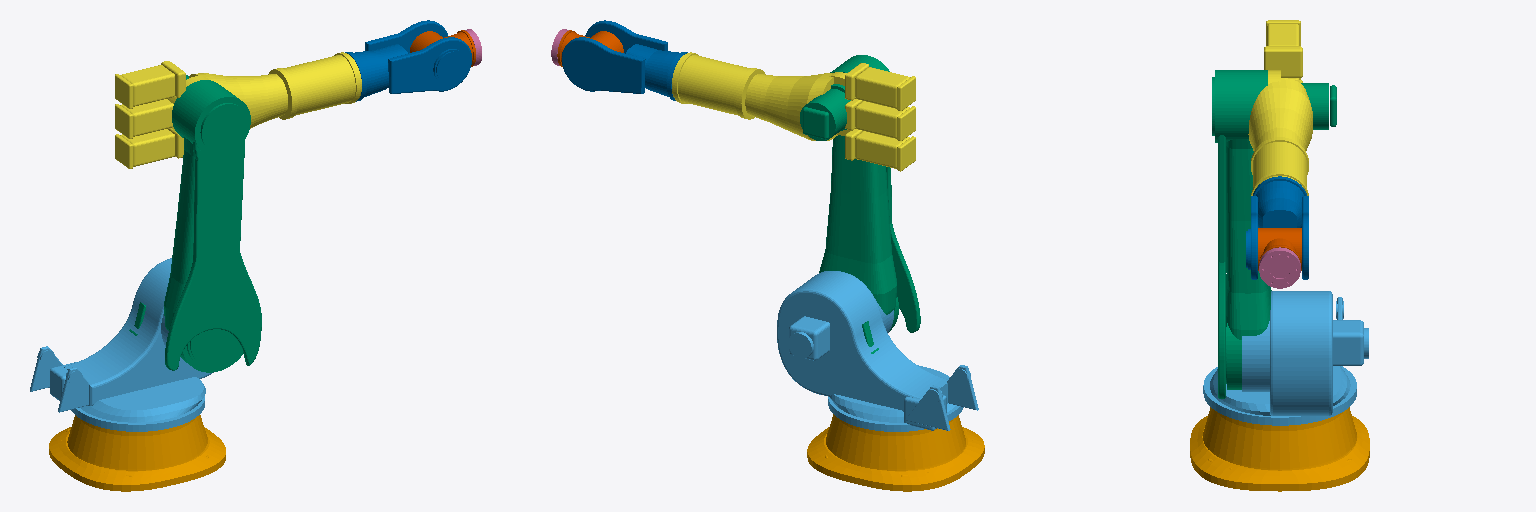
URDF robot description (kuka_kr210_l150_reference):
<?xml version="1.0"?>
<robot name="kuka_kr210_l150_reference">
<link name="base_link"><visual ><geometry ><mesh filename="../meshes/base_link.obj"/></geometry></visual><collision ><origin xyz="0 0 0.04955" rpy="0 0 0"/><geometry ><box size="0.8982 0.8602 0.0871"/></geometry></collision><collision ><origin xyz="0 0 0.1158" rpy="0 0 0"/><geometry ><cylinder radius="0.383" length="0.0616"/></geometry></collision><collision ><origin xyz="0 0 0.1773" rpy="0 0 0"/><geometry ><cylinder radius="0.3648" length="0.0616"/></geometry></collision><collision ><origin xyz="0 0 0.23875" rpy="0 0 0"/><geometry ><cylinder radius="0.3472" length="0.0615"/></geometry></collision><collision ><origin xyz="0 0 0.3002" rpy="0 0 0"/><geometry ><cylinder radius="0.3296" length="0.0616"/></geometry></collision></link>
<link name="link_1"><visual ><geometry ><mesh filename="../meshes/link_1.obj"/></geometry></visual><collision ><origin xyz="0 0 0.04055" rpy="0 0 0"/><geometry ><cylinder radius="0.3712" length="0.0991"/></geometry></collision><collision ><origin xyz="-0.25855 0.1 0.1278" rpy="0 0 0"/><geometry ><box size="0.1151 0.3002 0.1376"/></geometry></collision><collision ><origin xyz="-0.14355 0.1 0.14635" rpy="0 0 0"/><geometry ><box size="0.1151 0.3002 0.1747"/></geometry></collision><collision ><origin xyz="-0.02855 0.1 0.1856" rpy="0 0 0"/><geometry ><box size="0.1151 0.3002 0.2532"/></geometry></collision><collision ><origin xyz="0.0864 0.1 0.2995" rpy="0 0 0"/><geometry ><box size="0.115 0.3002 0.481"/></geometry></collision><collision ><origin xyz="0.20135 0.1 0.3551" rpy="0 0 0"/><geometry ><box size="0.1151 0.3002 0.5922"/></geometry></collision><collision ><origin xyz="0.31635 0.1 0.36505" rpy="0 0 0"/><geometry ><box size="0.1151 0.3002 0.6121"/></geometry></collision><collision ><origin xyz="0.4313 0.1 0.3659" rpy="0 0 0"/><geometry ><box size="0.115 0.3002 0.6088"/></geometry></collision><collision ><origin xyz="0.54625 0.1 0.36945" rpy="0 0 0"/><geometry ><box size="0.1151 0.3002 0.5343"/></geometry></collision><collision ><origin xyz="0.35277 -0.00875 0.4192" rpy="1.57079632679 0 0"/><geometry ><cylinder radius="0.2331" length="0.3475"/></geometry></collision><collision ><origin xyz="0.35275 0.29375 0.4192" rpy="0 0 0"/><geometry ><box size="0.2251 0.2625 0.218"/></geometry></collision><collision ><origin xyz="-0.295 0.2 0.1" rpy="0 0 0"/><geometry ><box size="0.19 0.1502 0.16"/></geometry></collision><collision ><origin xyz="-0.3596 -0.016 0.17955" rpy="0 0 0"/><geometry ><box size="0.2768 0.0392 0.2411"/></geometry></collision><collision ><origin xyz="-0.3596 0.286 0.17955" rpy="0 0 0"/><geometry ><box size="0.2768 0.0392 0.2411"/></geometry></collision></link>
<link name="link_2"><visual ><geometry ><mesh filename="../meshes/link_2.obj"/></geometry></visual><collision ><origin xyz="0 -0.10105 0" rpy="1.57079632679 0 0"/><geometry ><cylinder radius="0.2231" length="0.2901"/></geometry></collision><collision ><origin xyz="-0.01795 -0.11005 0.05875" rpy="0 0 0"/><geometry ><box size="0.4481 0.2401 0.2275"/></geometry></collision><collision ><origin xyz="-0.0263 -0.1124 0.2862" rpy="0 0 0"/><geometry ><box size="0.426 0.2336 0.2276"/></geometry></collision><collision ><origin xyz="-0.02905 -0.1216 0.5137" rpy="0 0 0"/><geometry ><box size="0.3391 0.1998 0.2276"/></geometry></collision><collision ><origin xyz="-0.02595 -0.1302 0.7412" rpy="0 0 0"/><geometry ><box size="0.3035 0.1862 0.2276"/></geometry></collision><collision ><origin xyz="-0.01965 -0.13865 0.9687" rpy="0 0 0"/><geometry ><box size="0.2807 0.1731 0.2276"/></geometry></collision><collision ><origin xyz="0 -0.14755 1.1962" rpy="0 0 0"/><geometry ><box size="0.3142 0.1721 0.2276"/></geometry></collision><collision ><origin xyz="-0.04125 -0.24105 -0.0845" rpy="0 0 0"/><geometry ><box size="0.5909 0.0351 0.2646"/></geometry></collision><collision ><origin xyz="-0.03425 -0.24105 0.18" rpy="0 0 0"/><geometry ><box size="0.5765 0.0351 0.2646"/></geometry></collision><collision ><origin xyz="-0.0225 -0.24105 0.4445" rpy="0 0 0"/><geometry ><box size="0.4 0.0351 0.2646"/></geometry></collision><collision ><origin xyz="-0.01085 -0.24105 0.709" rpy="0 0 0"/><geometry ><box size="0.2945 0.0351 0.2646"/></geometry></collision><collision ><origin xyz="-0.00245 -0.24105 0.97345" rpy="0 0 0"/><geometry ><box size="0.3045 0.0351 0.2645"/></geometry></collision><collision ><origin xyz="-0.0033 -0.24105 1.2379" rpy="0 0 0"/><geometry ><box size="0.3182 0.0351 0.2646"/></geometry></collision><collision ><origin xyz="-0.000098483 -0.15625 1.2499" rpy="1.57079632679 0 0"/><geometry ><cylinder radius="0.1741" length="0.2677"/></geometry></collision><collision ><origin xyz="0 0.15555 1.2499" rpy="0 0 0"/><geometry ><box size="0.26 0.3061 0.26"/></geometry></collision><collision ><origin xyz="-0.22905 0.17245 -0.04" rpy="0 0 0"/><geometry ><box size="0.1581 0.0791 0.2414"/></geometry></collision></link>
<link name="link_3"><visual ><geometry ><mesh filename="../meshes/link_3.obj"/></geometry></visual><collision ><origin xyz="0 0.08 0" rpy="1.57079632679 0 0"/><geometry ><cylinder radius="0.1721" length="0.2152"/></geometry></collision><collision ><origin xyz="0.11585 0.18195 -0.0255" rpy="0 0 0"/><geometry ><box size="0.1617 0.3221 0.383"/></geometry></collision><collision ><origin xyz="0.2775 0.184 -0.04405" rpy="0 0 0"/><geometry ><box size="0.1618 0.2904 0.3309"/></geometry></collision><collision ><origin xyz="0.43915 0.184 -0.0537" rpy="0 0 0"/><geometry ><box size="0.1617 0.2464 0.2706"/></geometry></collision><collision ><origin xyz="0.74645 0.184 -0.055059" rpy="0 1.57079632679 0"/><geometry ><cylinder radius="0.1401" length="0.4371"/></geometry></collision><collision ><origin xyz="-0.26555 0.2 0" rpy="0 0 0"/><geometry ><box size="0.3481 0.1872 0.5062"/></geometry></collision></link>
<link name="link_4"><visual ><geometry ><mesh filename="../meshes/link_4.obj"/></geometry></visual><collision ><origin xyz="0.021 0 0" rpy="0 1.57079632679 0"/><geometry ><cylinder radius="0.1351" length="0.0282"/></geometry></collision><collision ><origin xyz="0.18255 0 0" rpy="0 1.57079632679 0"/><geometry ><cylinder radius="0.1261" length="0.2951"/></geometry></collision><collision ><origin xyz="0.4346 -0.12305 0.00285" rpy="0 0 0"/><geometry ><box size="0.5076 0.0361 0.3035"/></geometry></collision><collision ><origin xyz="0.4346 0.12295 0.00285" rpy="0 0 0"/><geometry ><box size="0.5076 0.0361 0.3035"/></geometry></collision><collision ><origin xyz="0.542 -0.151 0" rpy="0 0 0"/><geometry ><box size="0.196 0.0222 0.196"/></geometry></collision></link>
<link name="link_5"><visual ><geometry ><mesh filename="../meshes/link_5.obj"/></geometry></visual><collision ><origin xyz="0 0 0" rpy="1.57079632679 0 0"/><geometry ><cylinder radius="0.1041" length="0.2072"/></geometry></collision><collision ><origin xyz="0.1002 0 0" rpy="0 1.57079632679 0"/><geometry ><cylinder radius="0.1021" length="0.1806"/></geometry></collision></link>
<link name="link_6"><visual ><geometry ><mesh filename="../meshes/link_6.obj"/></geometry></visual><collision ><origin xyz="0.01875 0 0" rpy="0 1.57079632679 0"/><geometry ><cylinder radius="0.1003" length="0.0377"/></geometry></collision></link>
<link name="tool0"></link>
<link name="flange"></link>
<link name="Link1"></link>
<joint name="joint_a1" type="revolute"><parent link="base_link"/><child link="link_1"/><origin xyz="-0.00262 0.00097586 0.33099" rpy="0 0 0"/><axis xyz="0 0 1"/><limit lower="-3.2288591161895095" upper="3.2288591161895095" velocity="2.1467549799530254"/></joint>
<joint name="joint_a2" type="revolute"><parent link="link_1"/><child link="link_2"/><origin xyz="0.35277 -0.037476 0.4192" rpy="0 0 0"/><axis xyz="0 1 0"/><limit lower="-0.7853981633974483" upper="1.4835298641951802" velocity="2.007128639793479"/></joint>
<joint name="joint_a3" type="revolute"><parent link="link_2"/><child link="link_3"/><origin xyz="-0.000098483 -0.1475 1.2499" rpy="0 0 0"/><axis xyz="0 1 0"/><limit lower="-3.6651914291880923" upper="1.1344640137963142" velocity="1.9547687622336491"/></joint>
<joint name="joint_a4" type="revolute"><parent link="link_3"/><child link="link_4"/><origin xyz="0.95795 0.184 -0.055059" rpy="0 0 0"/><axis xyz="1 0 0"/><limit lower="-6.108652381980153" upper="6.108652381980153" velocity="3.12413936106985"/></joint>
<joint name="joint_a5" type="revolute"><parent link="link_4"/><child link="link_5"/><origin xyz="0.542 0 0" rpy="0 0 0"/><axis xyz="0 1 0"/><limit lower="-2.1816615649929116" upper="2.1816615649929116" velocity="3.0019663134302466"/></joint>
<joint name="joint_a6" type="revolute"><parent link="link_5"/><child link="link_6"/><origin xyz="0.1925 0 0" rpy="0 0 0"/><axis xyz="1 0 0"/><limit lower="-6.108652381980153" upper="6.108652381980153" velocity="3.822271061867582"/></joint>
<joint name="link_6_tool0" type="fixed"><parent link="link_6"/><child link="tool0"/><origin xyz="0.0375 0 -0.00023924" rpy="0 0 0"/></joint>
<joint name="flange_joint" type="fixed"><parent link="tool0"/><child link="flange"/><origin xyz="0 0 0" rpy="0 1.57079632679 0"/></joint>
<joint name="Link1_link_1" type="fixed"><parent link="link_1"/><child link="Link1"/><origin xyz="0 0 0" rpy="0 0 0"/></joint>
</robot>

--- Facts derived from the render (not from the file) ---
The picture shows the robot from 3 angles, left to right: view 1: azimuth 30°, elevation 25°; view 2: azimuth 150°, elevation 25°; view 3: azimuth 270°, elevation 25°; orthographic projection.
Robot: kuka_kr210_l150_reference — 10 links, 9 joints (6 revolute, 3 fixed); root link base_link; default pose: every joint at zero.
Links seen in each view (by area): view 1: link_2, link_1, link_3, base_link, link_4, link_5; view 2: link_1, link_3, link_2, base_link, link_4, link_5; view 3: link_1, link_2, base_link, link_3, link_4, link_6, link_5.
Boxes of the visible links, left/top/right/bottom form: link_2: left=129, top=75, right=261, bottom=372; link_1: left=30, top=258, right=213, bottom=431; link_3: left=115, top=52, right=361, bottom=168; base_link: left=49, top=415, right=225, bottom=491; link_4: left=345, top=20, right=471, bottom=101; link_5: left=410, top=30, right=475, bottom=66; link_1: left=777, top=271, right=978, bottom=431; link_3: left=672, top=52, right=915, bottom=171; link_2: left=800, top=55, right=920, bottom=353; base_link: left=807, top=414, right=984, bottom=491; link_4: left=562, top=20, right=687, bottom=100; link_5: left=557, top=30, right=623, bottom=66; link_1: left=1203, top=291, right=1368, bottom=425; link_2: left=1212, top=70, right=1336, bottom=398; base_link: left=1190, top=407, right=1369, bottom=491; link_3: left=1248, top=20, right=1312, bottom=195; link_4: left=1246, top=176, right=1308, bottom=279; link_6: left=1259, top=247, right=1300, bottom=288; link_5: left=1258, top=228, right=1301, bottom=270.
Bounding box of the posed robot: 2.58 × 0.86 × 2.25 m (x, y, z).
Meshes: 7 distinct files referenced, 7 mesh visuals loaded (7 OBJ).
